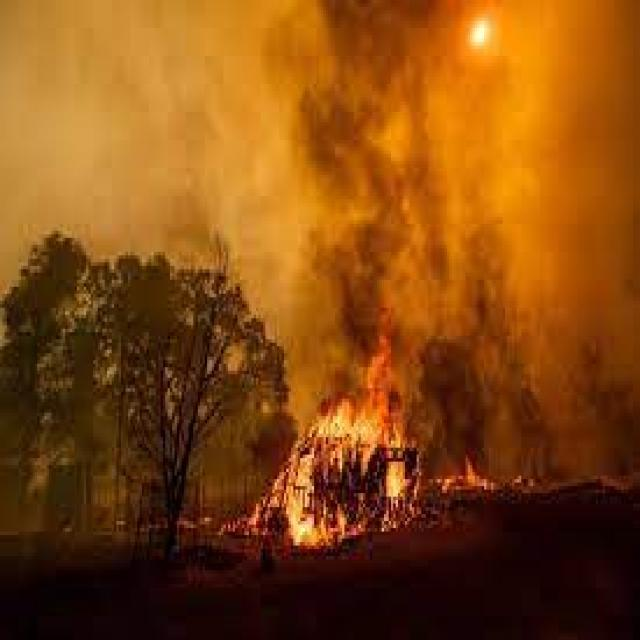Fire: (257, 405, 447, 538)
Smoke: (307, 7, 538, 385), (17, 2, 270, 246)
